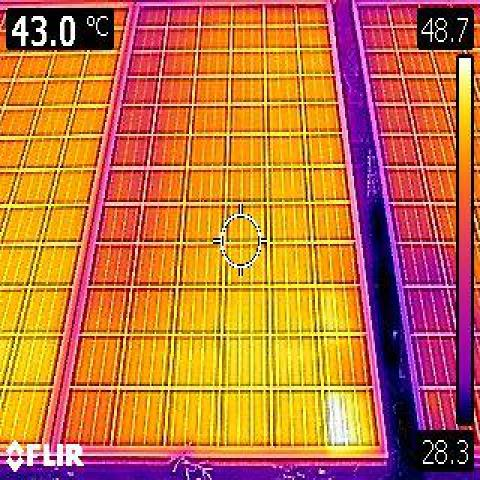fault: (324, 391, 377, 446)
